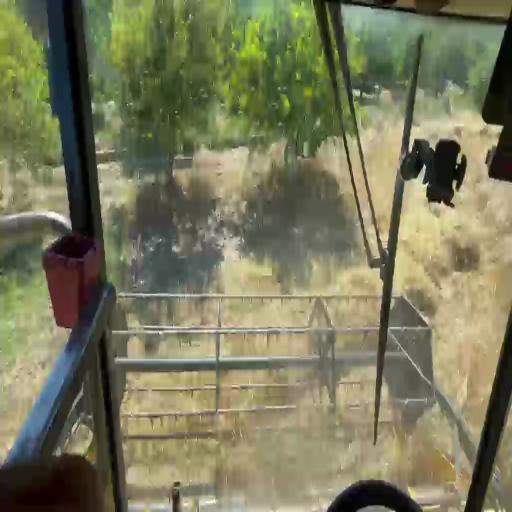arpa: (396, 114, 512, 438)
